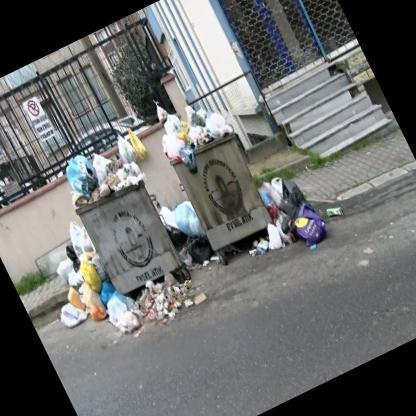Garbage: (21, 209, 140, 366), (258, 161, 344, 262), (132, 260, 217, 338), (60, 139, 144, 212), (152, 94, 236, 163), (282, 190, 340, 256), (52, 287, 96, 341), (149, 288, 196, 336), (166, 192, 207, 247), (57, 146, 102, 196), (161, 113, 196, 149), (155, 127, 188, 161), (183, 117, 217, 150), (115, 132, 143, 168), (206, 108, 237, 140), (177, 143, 203, 178), (128, 126, 152, 162), (152, 98, 172, 124)
